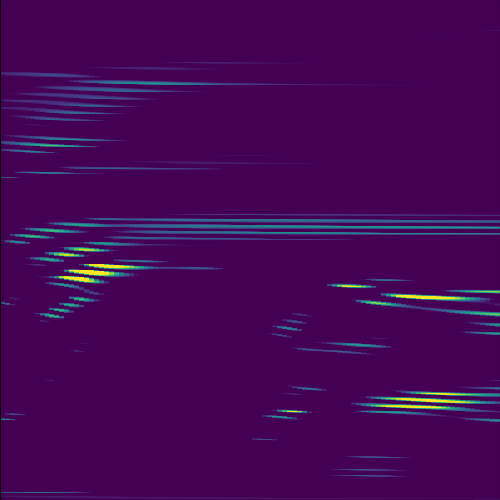semblance: (355, 385, 489, 419), (46, 260, 149, 291)
